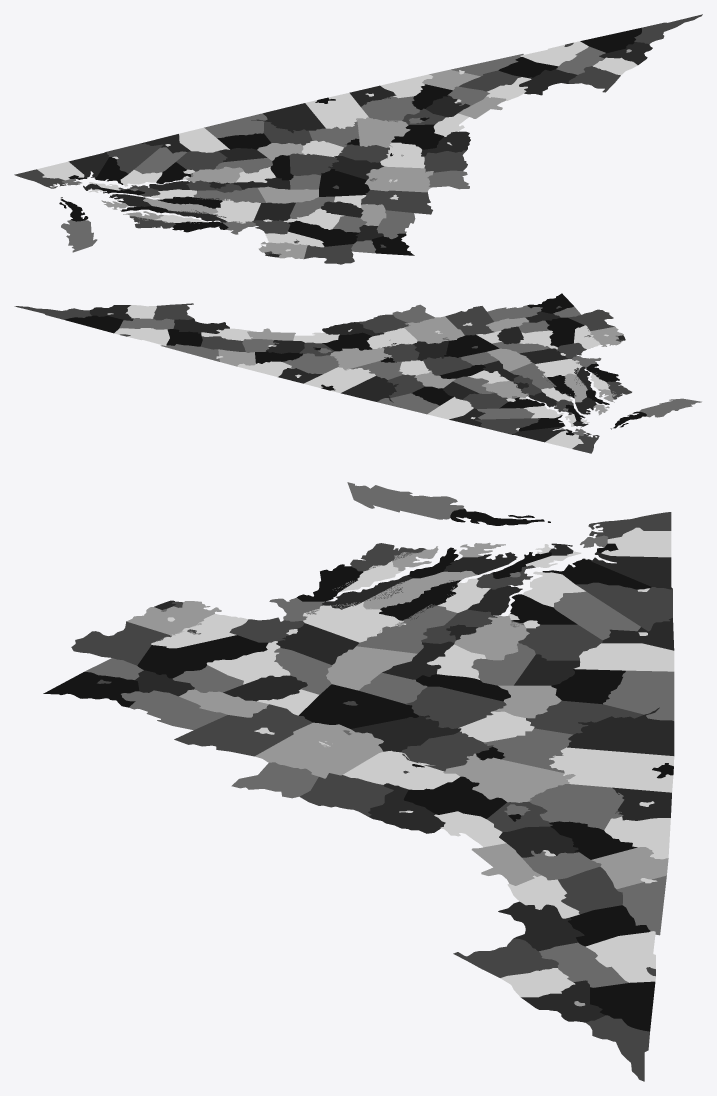
File: Virginia_Counties_2D.fbx
3 renders of one model, top to bottom at view 1: azimuth 30°, elevation 25°; view 2: azimuth 150°, elevation 25°; view 3: azimuth 270°, elevation 25°, orthographic. The views are drawn at different scales.
Parts seen in each view (by area): view 1: VA_Augusta_County_2D, VA_Pittsylvania_County_2D, VA_Rockingham_County_2D, VA_Bedford_County_2D, VA_Halifax_County_2D, VA_Albemarle_County_2D, VA_Franklin_County_2D, VA_Fauquier_County_2D, VA_Mecklenburg_County_2D, VA_Rockbridge_County_2D, VA_Buckingham_County_2D, VA_Southampton_County_2D (+67 smaller); view 2: VA_Augusta_County_2D, VA_Pittsylvania_County_2D, VA_Rockingham_County_2D, VA_Bedford_County_2D, VA_Halifax_County_2D, VA_Albemarle_County_2D, VA_Franklin_County_2D, VA_Fauquier_County_2D, VA_Mecklenburg_County_2D, VA_Rockbridge_County_2D, VA_Buckingham_County_2D, VA_Southampton_County_2D (+69 smaller); view 3: VA_Augusta_County_2D, VA_Pittsylvania_County_2D, VA_Rockingham_County_2D, VA_Halifax_County_2D, VA_Bedford_County_2D, VA_Albemarle_County_2D, VA_Franklin_County_2D, VA_Fauquier_County_2D, VA_Mecklenburg_County_2D, VA_Buckingham_County_2D, VA_Rockbridge_County_2D, VA_Southampton_County_2D (+74 smaller).
Boxes of the visible parts, x1,y1,x2,y2 form: VA_Augusta_County_2D: (365,166,433,192); VA_Pittsylvania_County_2D: (305,93,368,128); VA_Rockingham_County_2D: (361,190,432,214); VA_Bedford_County_2D: (356,117,410,147); VA_Halifax_County_2D: (251,103,325,133); VA_Albemarle_County_2D: (319,169,369,196); VA_Franklin_County_2D: (361,96,419,122); VA_Fauquier_County_2D: (288,220,358,246); VA_Mecklenburg_County_2D: (204,113,267,137); VA_Rockbridge_County_2D: (380,142,425,168); VA_Buckingham_County_2D: (289,153,338,175); VA_Southampton_County_2D: (106,143,163,173); VA_Augusta_County_2D: (404,316,464,343); VA_Pittsylvania_County_2D: (304,367,375,393); VA_Rockingham_County_2D: (445,306,494,335); VA_Bedford_County_2D: (330,347,392,370); VA_Halifax_County_2D: (341,376,398,402); VA_Albemarle_County_2D: (444,334,499,357); VA_Franklin_County_2D: (282,353,339,373); VA_Fauquier_County_2D: (545,317,584,347); VA_Mecklenburg_County_2D: (377,393,439,414); VA_Rockbridge_County_2D: (367,328,417,348); VA_Buckingham_County_2D: (423,356,472,375); VA_Southampton_County_2D: (475,418,540,434); VA_Augusta_County_2D: (254,722,383,778); VA_Pittsylvania_County_2D: (549,747,674,792); VA_Rockingham_County_2D: (174,704,312,756); VA_Halifax_County_2D: (567,707,674,755); VA_Bedford_County_2D: (443,753,575,802); VA_Albemarle_County_2D: (299,684,418,728); VA_Franklin_County_2D: (529,784,624,829); VA_Fauquier_County_2D: (137,635,268,678); VA_Mecklenburg_County_2D: (603,670,674,720); VA_Buckingham_County_2D: (405,686,506,728); VA_Rockbridge_County_2D: (343,750,460,789); VA_Southampton_County_2D: (575,582,672,631).
Size of the model in its own units: 934 by 0 by 415.
